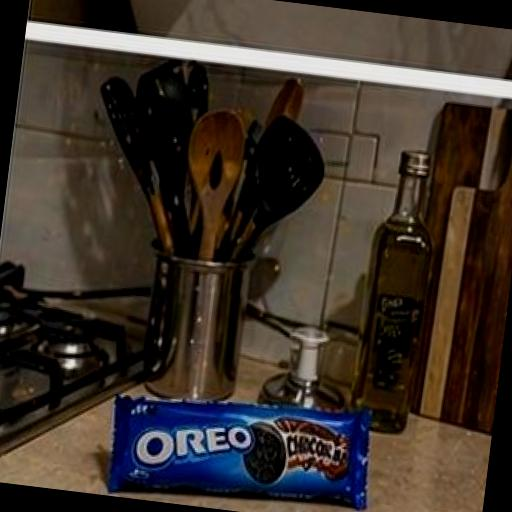oreo: (76, 329, 413, 512)
